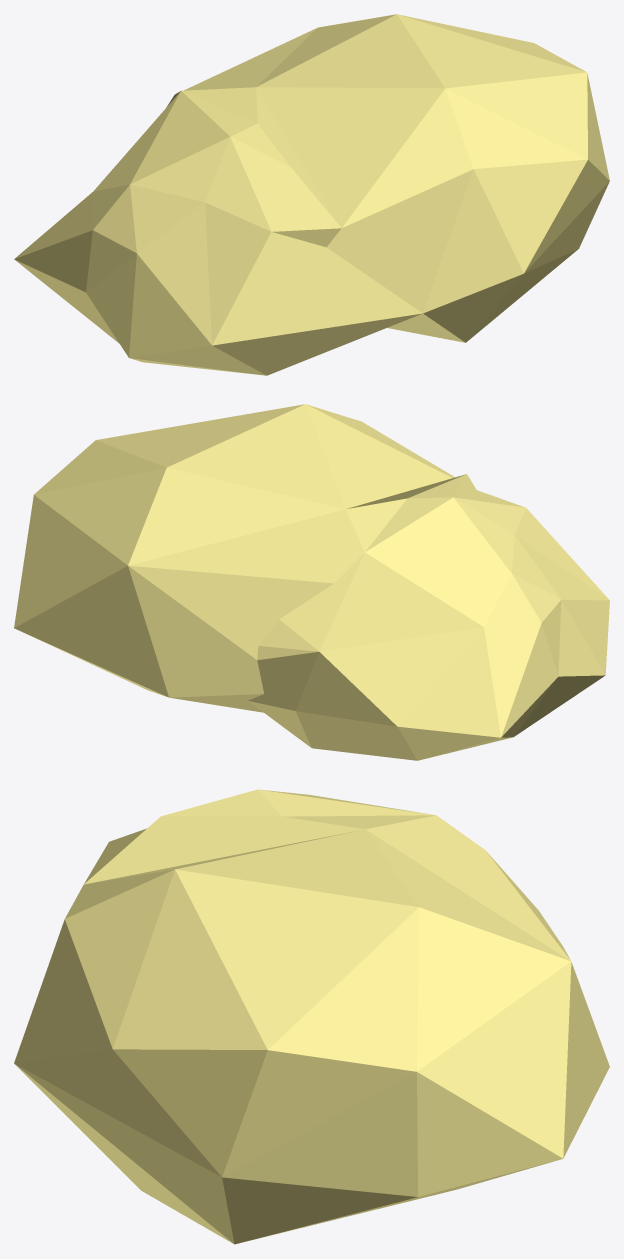
Rendered from treetopleaves_yellow.glb.
3 views of the same model, one above another, from view 1: azimuth 30°, elevation 25°; view 2: azimuth 150°, elevation 25°; view 3: azimuth 270°, elevation 25° (orthographic). The views are drawn at different scales.
Visible parts, largest first — view 1: Cylinder; view 2: Cylinder; view 3: Cylinder.
Boxes of the visible parts, box(x1,y1,x2,y2) form: Cylinder: box(14, 14, 609, 375); Cylinder: box(14, 404, 609, 760); Cylinder: box(14, 789, 609, 1244).
Bounding box in the file's own units: 1.68 × 0.8055 × 1.35.
